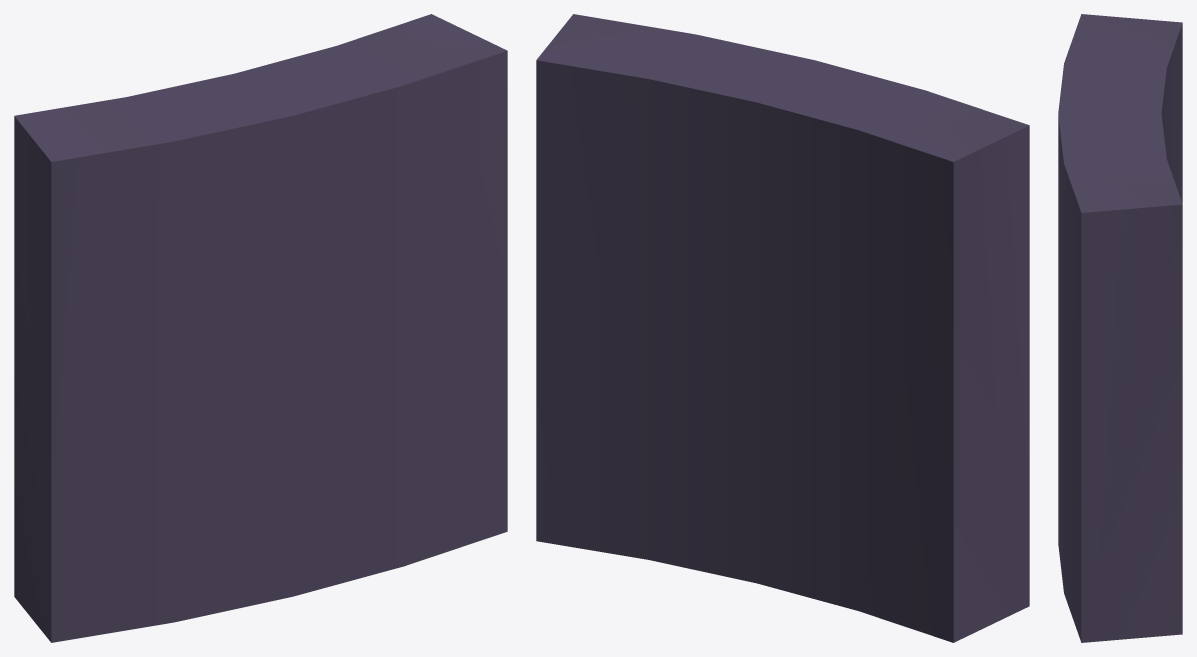
Rendered from 00_Outer_Base.fbx.
The picture shows the model from 3 angles, left to right: view 1: azimuth 30°, elevation 25°; view 2: azimuth 150°, elevation 25°; view 3: azimuth 270°, elevation 25°; orthographic projection. The views are drawn at different scales.
Visible parts, largest first — view 1: Outer_01; view 2: Outer_01; view 3: Outer_01.
Part boxes in pixels (<box>): Outer_01: <box>14,14,507,642</box>; Outer_01: <box>536,14,1029,642</box>; Outer_01: <box>1058,14,1182,642</box>.
Size of the model in its own units: 34.49 by 34.73 by 9.12.
